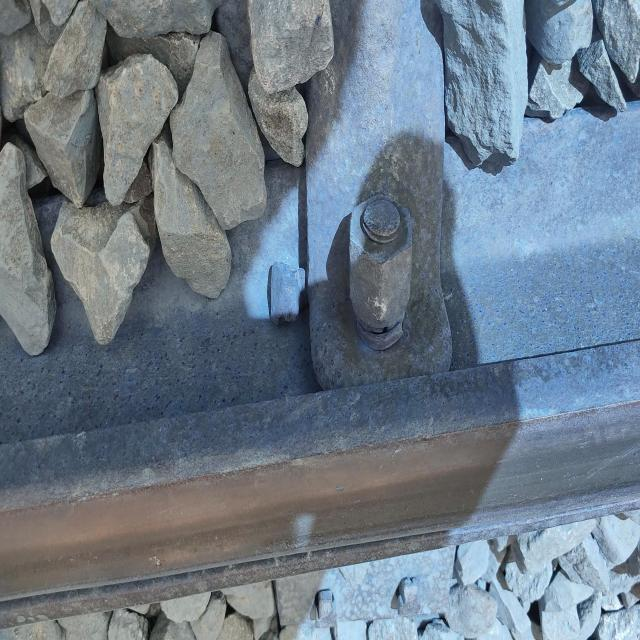Good Fasteners: (299, 92, 482, 398)
